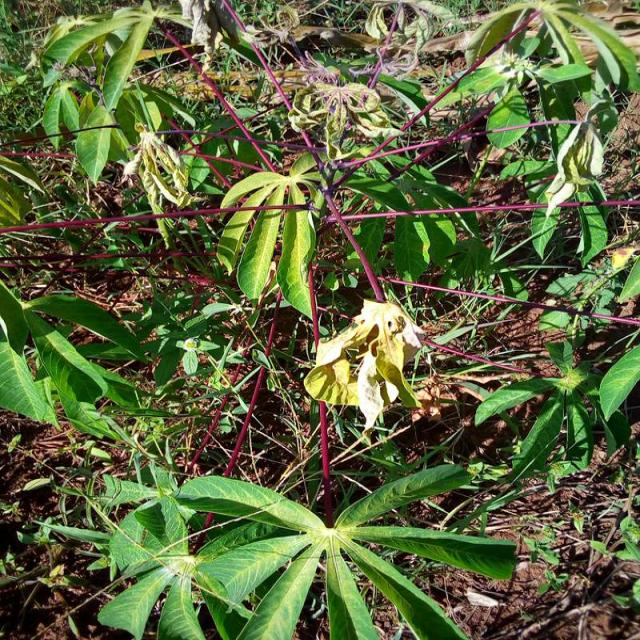cassava leaf: (302, 297, 424, 435)
